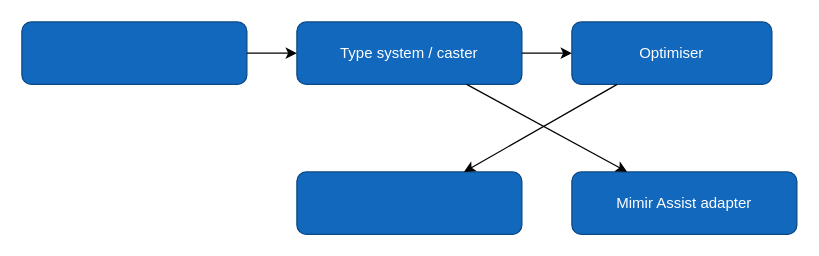
This 819x256 diagram has some shape labels left out. The centre of each missing label's shape, as x and y in pixels:
Engine codegen: the point at 409,202
Pipeline IR parser: the point at 134,52
